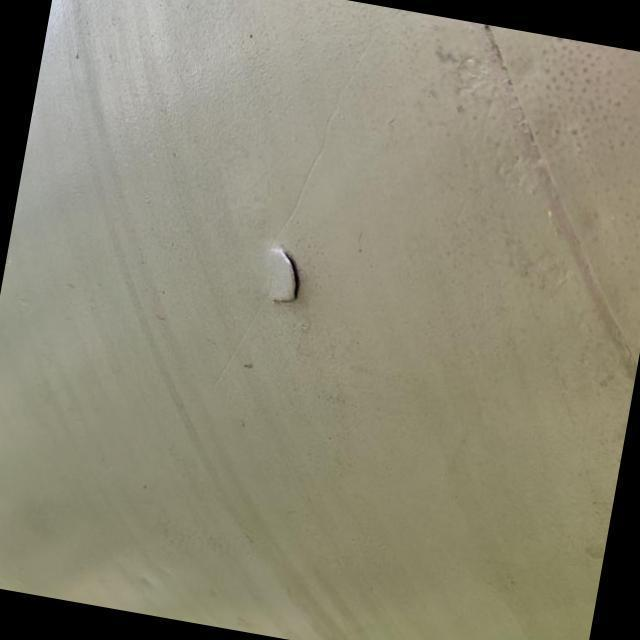Rupture: (237, 230, 323, 320)
